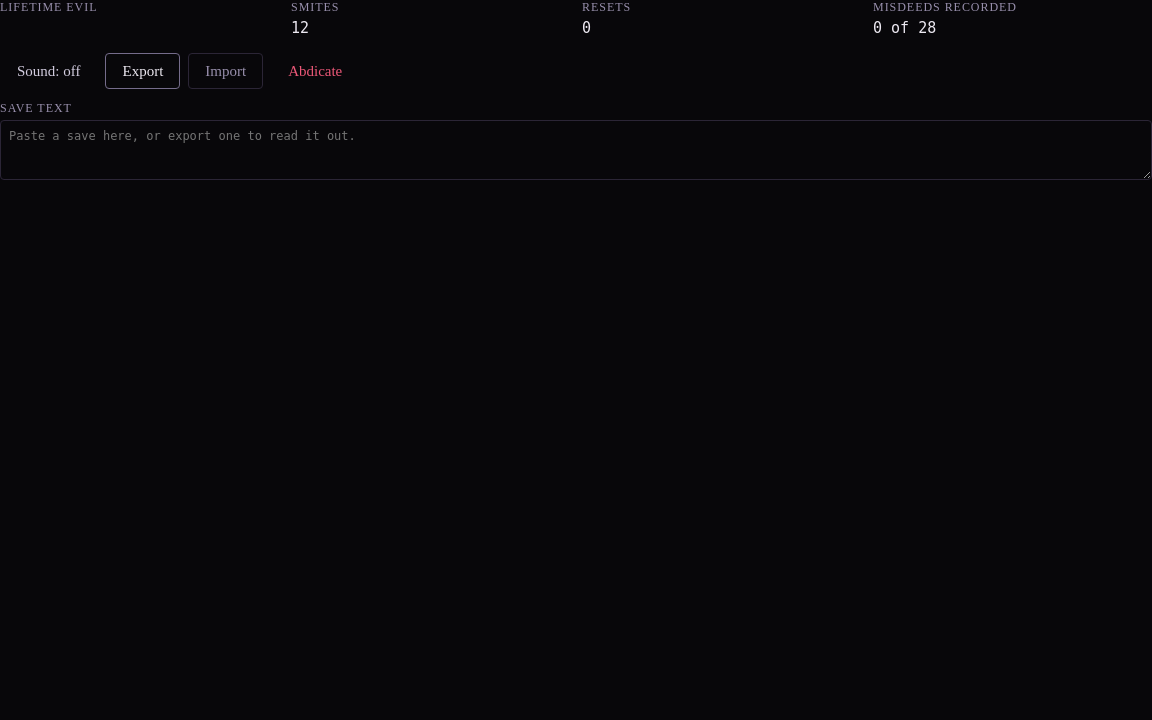
Test: Ledger › names what abdication costs before it happens
Click the button "Abdicate". click: (315, 71)
box: [271, 53, 359, 89]
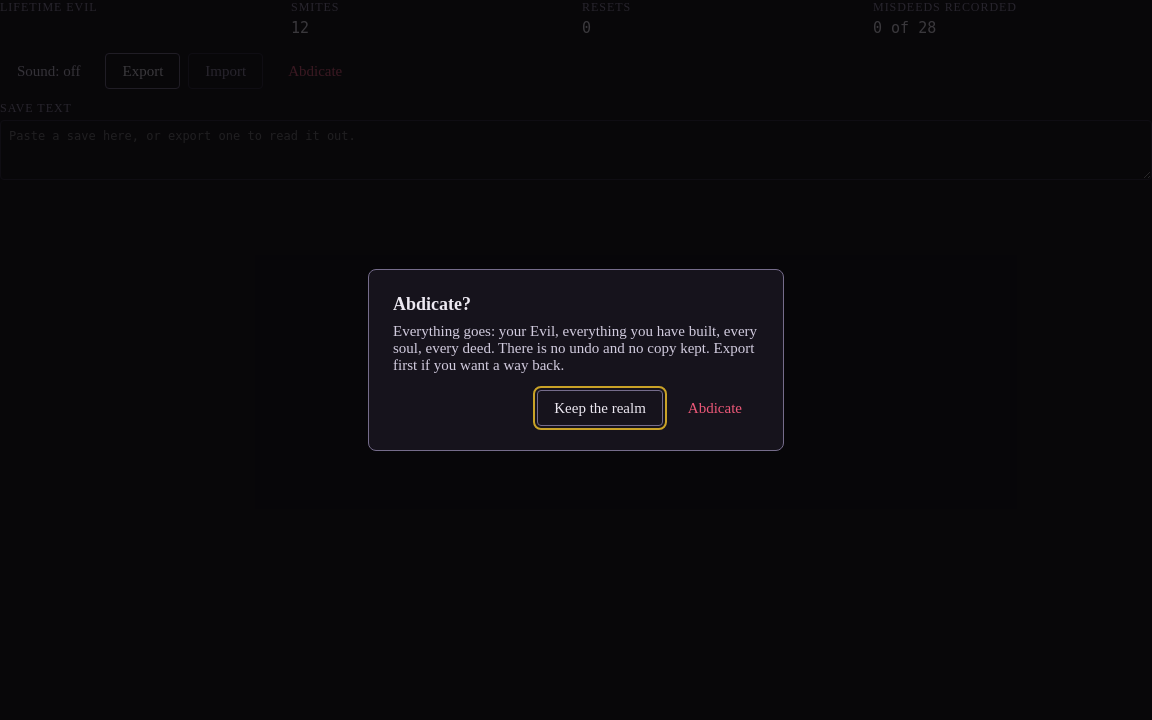
Expected: the dialog shows "Everything goes: your Evil, everything you have built, every soul, every deed. There is no undo and no copy kept. Export first if you want a way back.", [393, 323, 757, 373]
